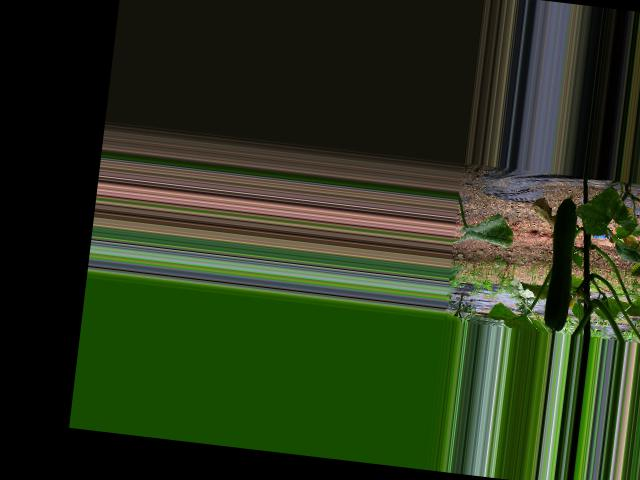cucumber: (541, 193, 582, 331)
